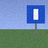sign: (27, 5, 45, 37)
